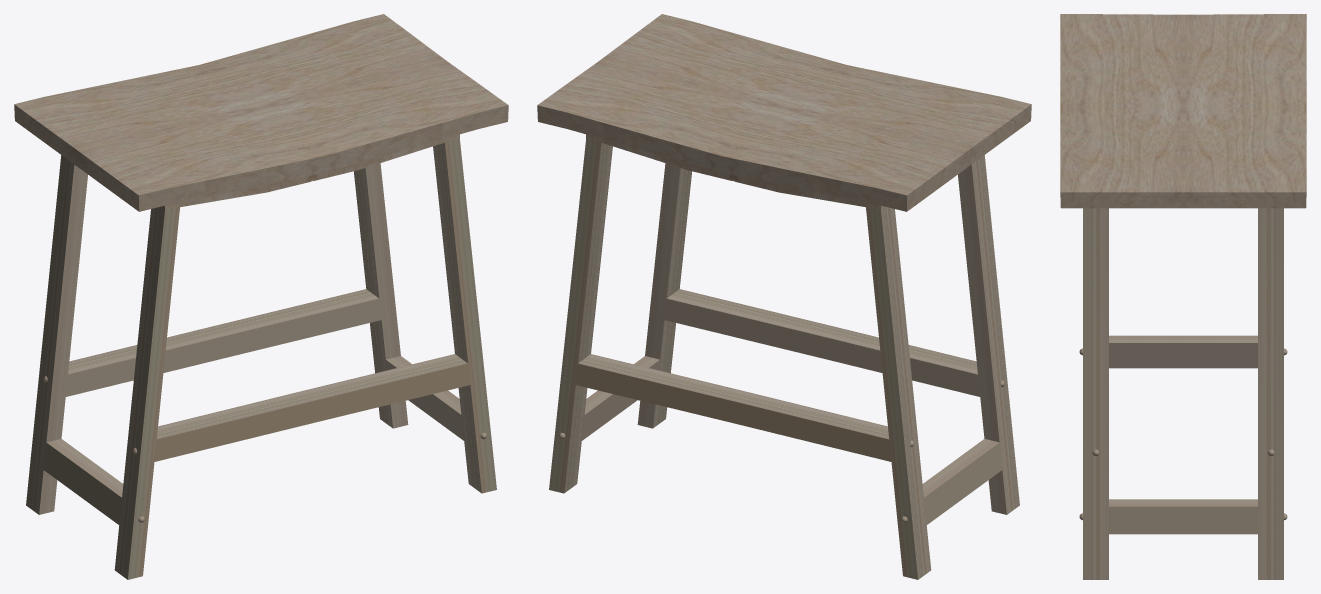
The picture shows the model from 3 angles, left to right: view 1: azimuth 30°, elevation 25°; view 2: azimuth 150°, elevation 25°; view 3: azimuth 270°, elevation 25°; orthographic projection.
Visible parts, largest first — view 1: Main Chair_0; view 2: Main Chair_0; view 3: Main Chair_0.
Part boxes in pixels (x1,y1,x2,y2): Main Chair_0: (14,14,508,579); Main Chair_0: (537,14,1031,579); Main Chair_0: (1060,14,1306,579).
Bounding box in the file's own units: 0.4816 × 0.4891 × 0.2815.
Materials: 1 (1 with a texture image).
